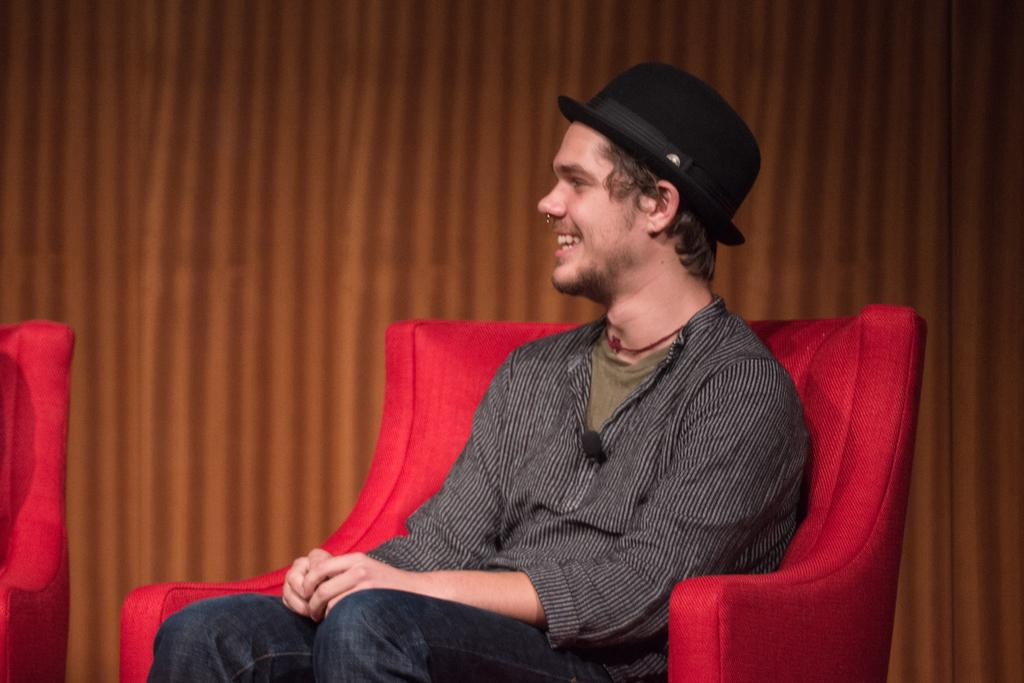Hat: (556, 63, 760, 252)
